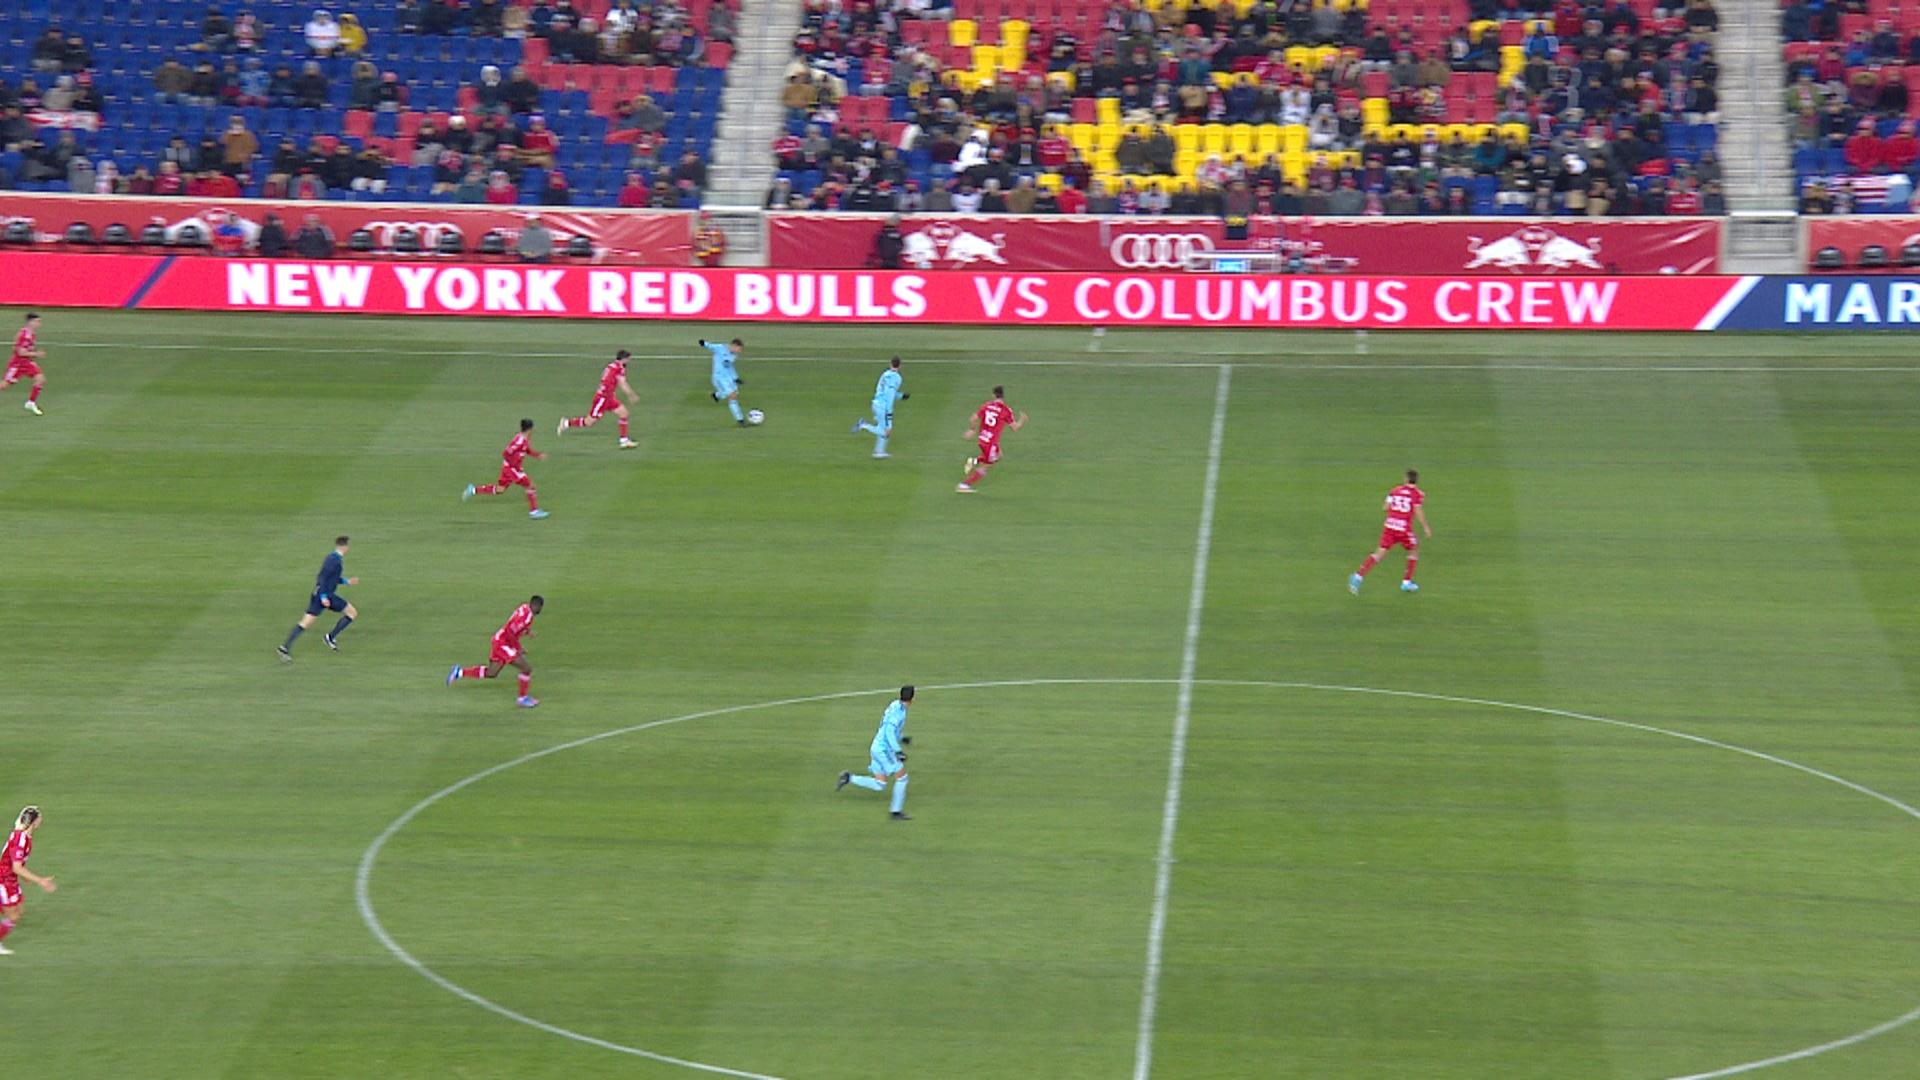football: (748, 409, 765, 423)
